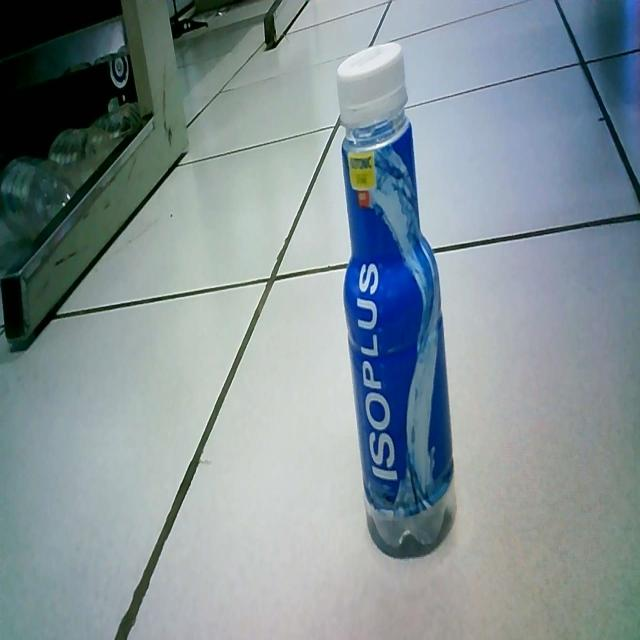botol: (334, 42, 462, 557)
